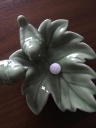Parol: (49, 62, 61, 74)
